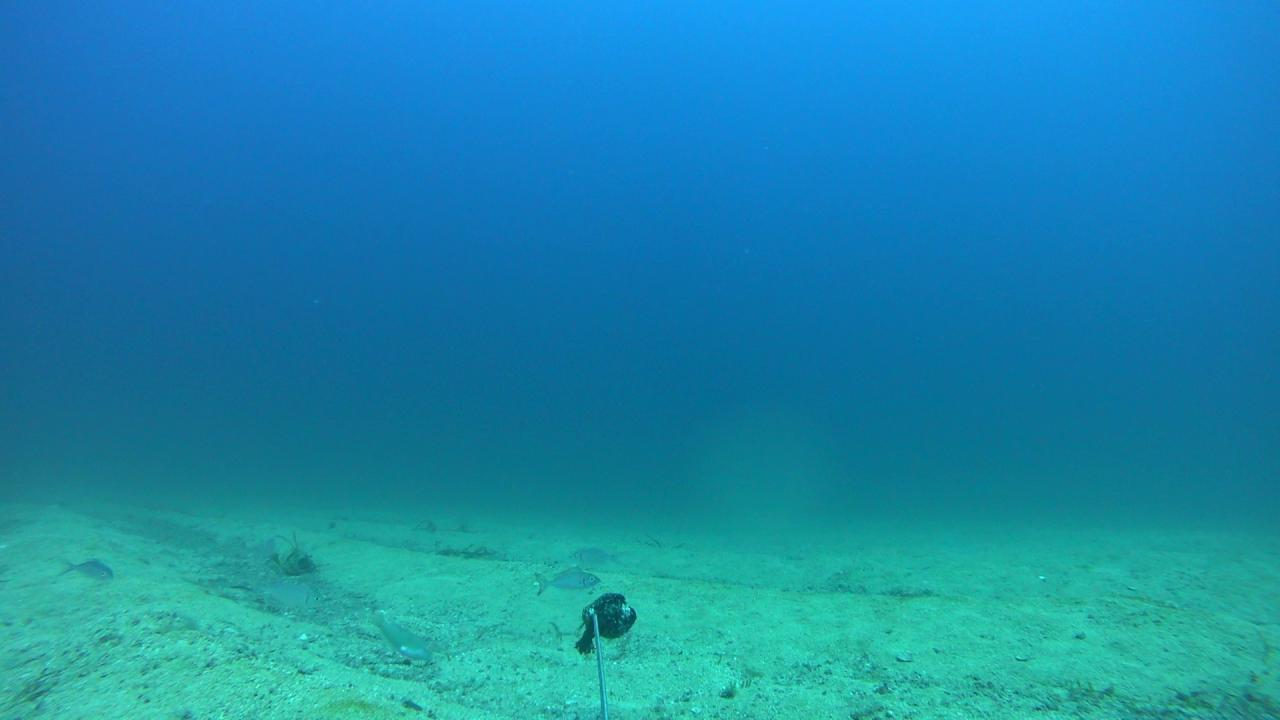pagellus: (535, 566, 600, 594), (566, 544, 630, 570), (59, 554, 111, 580)
